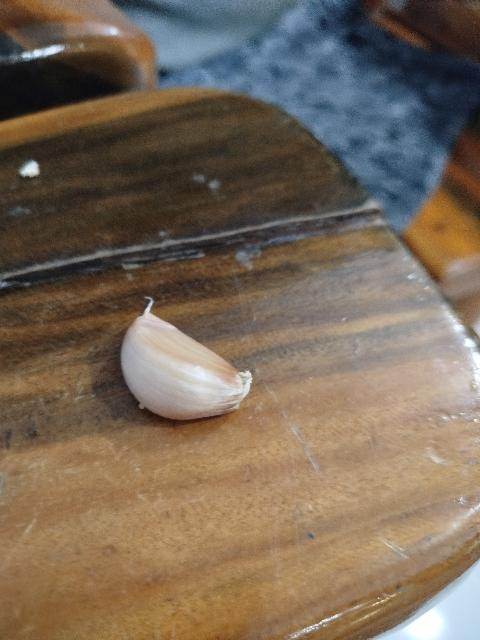garlic: (120, 296, 253, 420)
